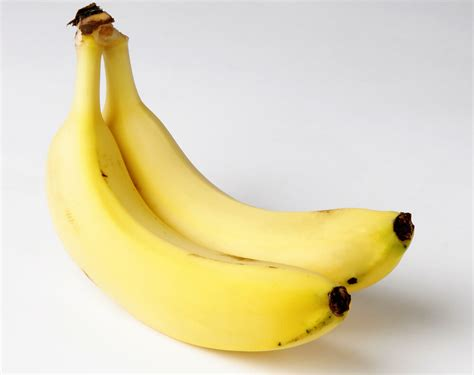banana: (40, 104, 356, 355), (97, 93, 416, 292)
